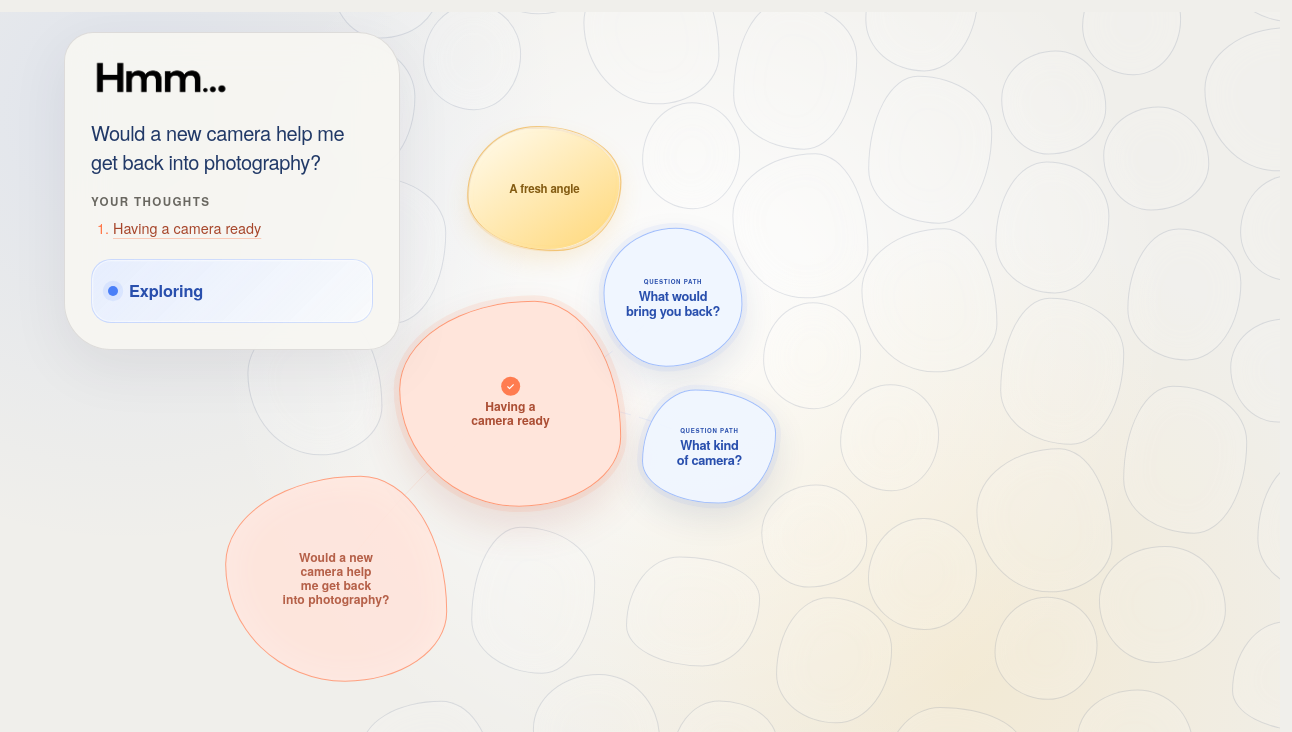
Test: ThoughtCanvas discovery › focuses a settled decision from the progress card without unfolding it
Click the button "Having a camera ready": (187, 229) [113,218,261,239]
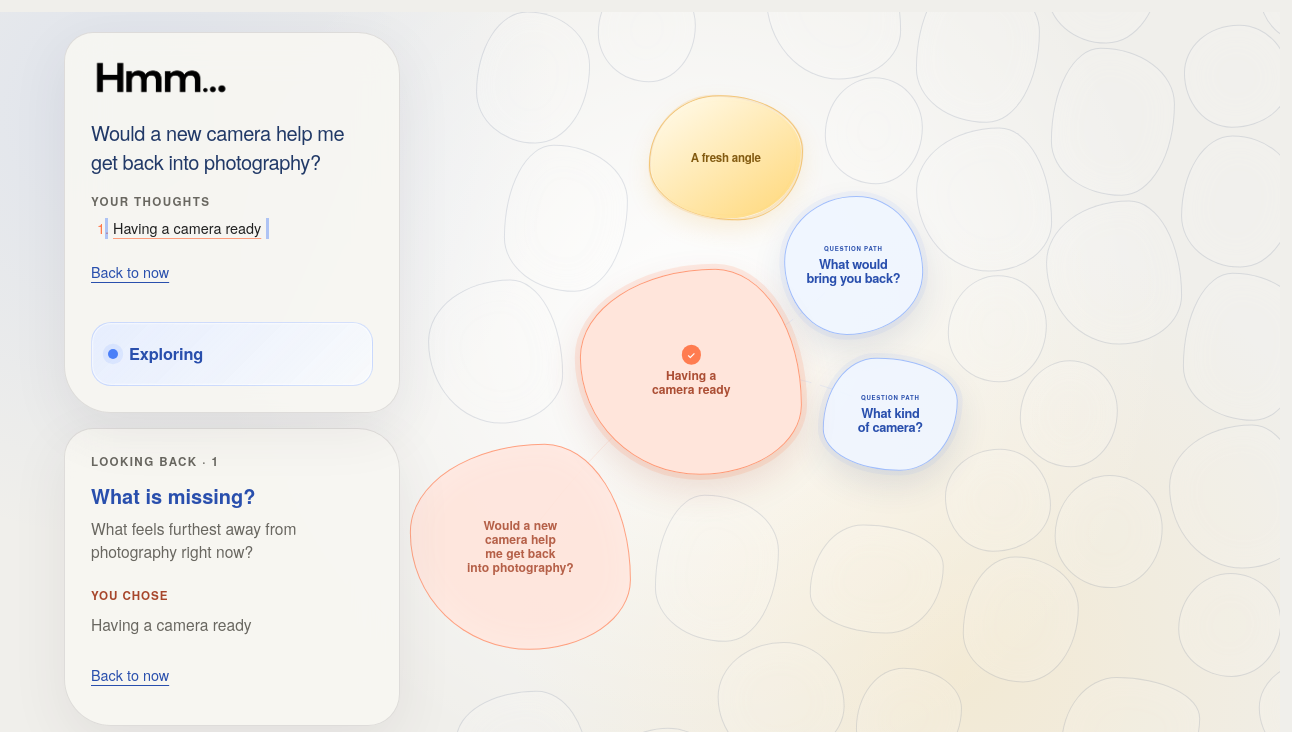
Expected: the element named "Review round 1" shows "Having a camera ready", [91,613,252,635]
